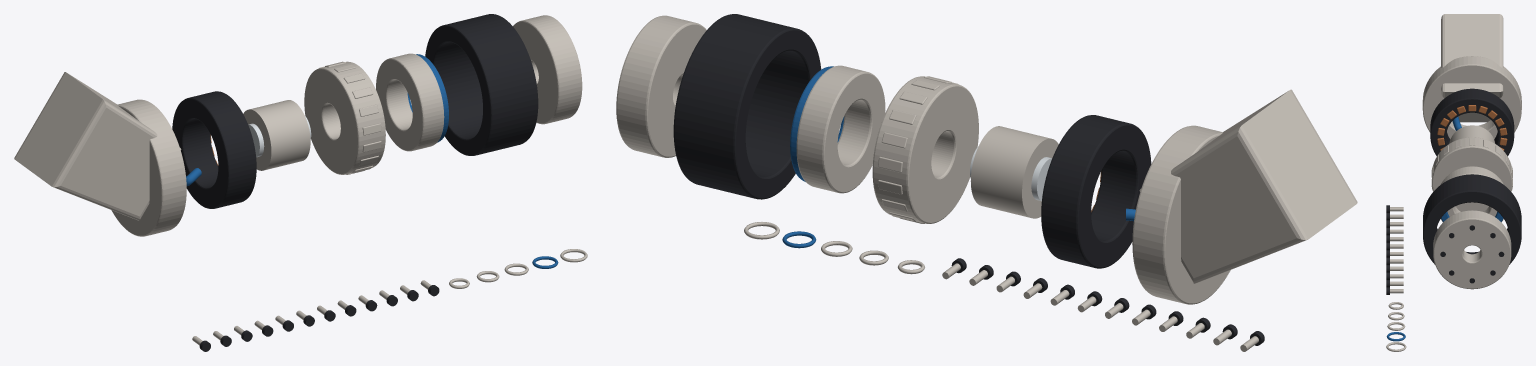
Rendered from anatomy-59.glb.
3 views of the same model, side by side, from view 1: azimuth 30°, elevation 25°; view 2: azimuth 150°, elevation 25°; view 3: azimuth 270°, elevation 25° (orthographic). The views are drawn at different scales.
Visible parts, largest first — view 1: arm, housing, stator, transmission, bearing, flange, rotor, hardware, retainers; view 2: arm, housing, stator, transmission, bearing, flange, rotor, hardware, retainers; view 3: arm, flange, housing, stator, transmission, hardware, bearing, retainers, rotor.
Boxes of the visible parts, <box> form: arm: <box>14,72,186,236</box>; housing: <box>425,14,538,155</box>; stator: <box>172,91,256,208</box>; transmission: <box>304,61,385,174</box>; bearing: <box>376,53,448,151</box>; flange: <box>513,15,582,124</box>; rotor: <box>243,100,311,170</box>; hardware: <box>192,280,439,351</box>; retainers: <box>449,249,587,288</box>; arm: <box>1132,89,1357,304</box>; housing: <box>673,14,821,199</box>; stator: <box>1041,115,1151,268</box>; transmission: <box>872,76,978,223</box>; bearing: <box>790,65,885,193</box>; flange: <box>616,15,706,157</box>; rotor: <box>970,126,1058,218</box>; hardware: <box>942,258,1264,351</box>; retainers: <box>744,222,924,274</box>; arm: <box>1422,14,1521,139</box>; flange: <box>1433,210,1511,289</box>; housing: <box>1423,174,1521,264</box>; stator: <box>1430,88,1514,156</box>; transmission: <box>1431,137,1512,211</box>; hardware: <box>1386,205,1403,294</box>; bearing: <box>1441,166,1503,222</box>; retainers: <box>1386,302,1406,351</box>; rotor: <box>1449,125,1494,143</box>.
Bounding box in the file's own units: 2.93 × 1.28 × 0.893.
